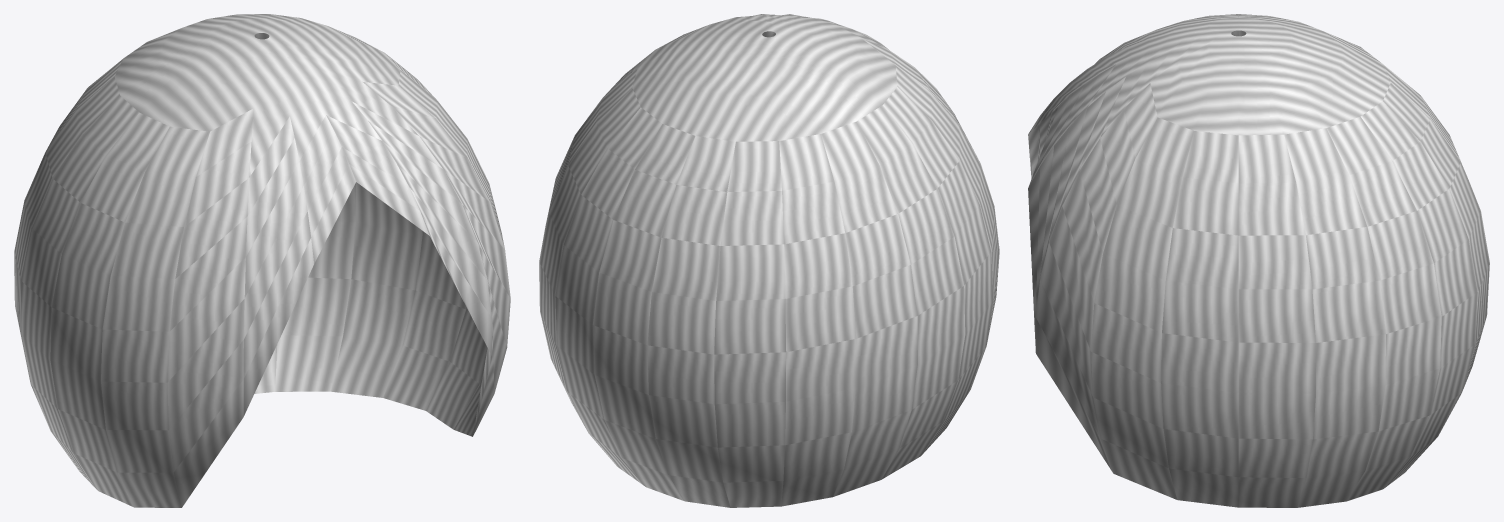
The model's file is hair_bob.glb.
3 views of the same model, side by side, from view 1: azimuth 30°, elevation 25°; view 2: azimuth 150°, elevation 25°; view 3: azimuth 270°, elevation 25° (orthographic). The views are drawn at different scales.
Visible parts, largest first — view 1: hair_bob; view 2: hair_bob; view 3: hair_bob.
Part boxes in pixels (x1,y1,x2,y2): hair_bob: (14,14,510,507); hair_bob: (539,14,999,507); hair_bob: (1028,14,1489,507).
Size of the model in its own units: 0.2793 by 0.2757 by 0.2754.
1 material, 1 textured.
